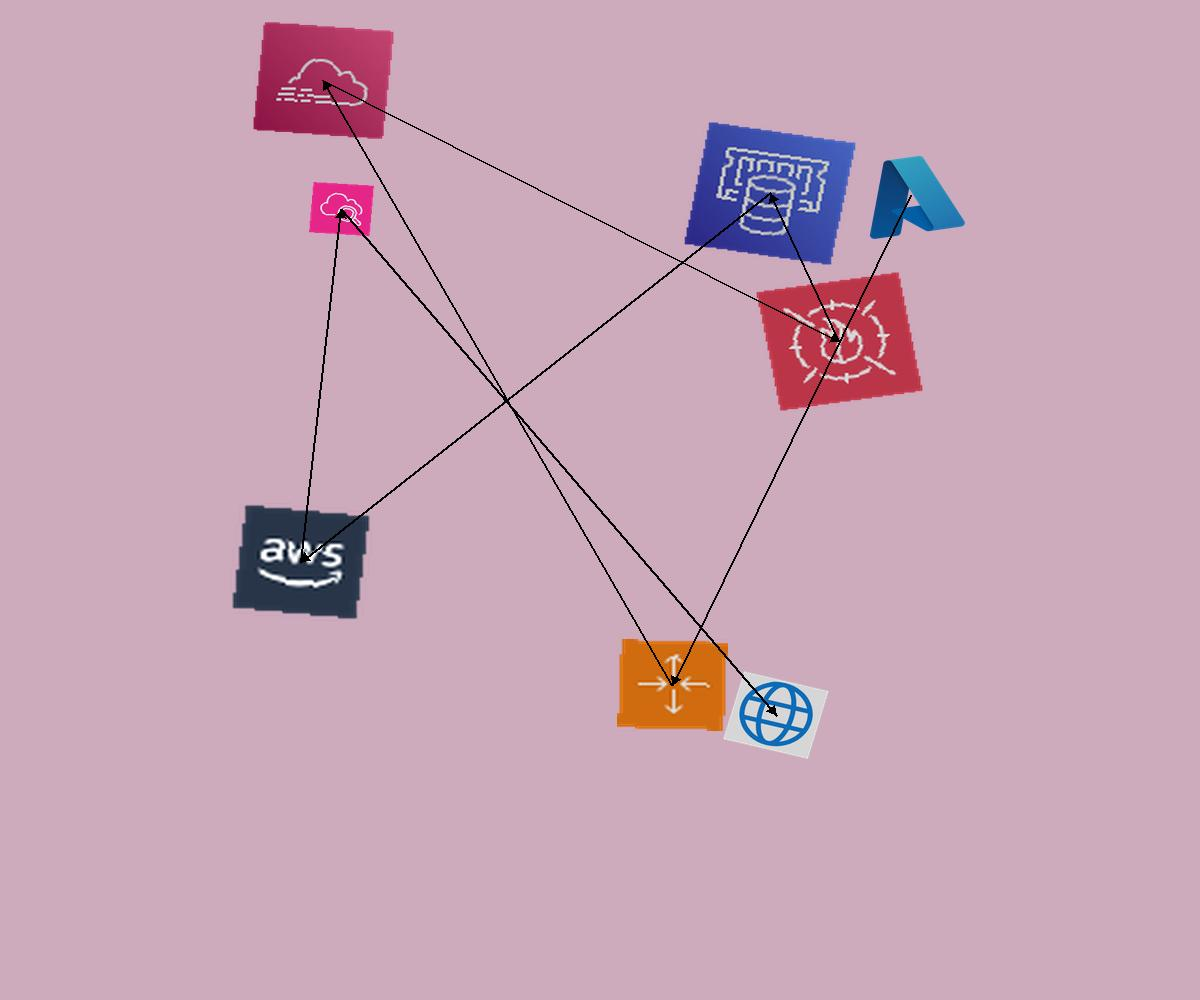AWS-Cloud-logo: (230, 503, 372, 621)
AWS-CloudTrail: (252, 21, 395, 140)
AWS-CloudWatch: (309, 182, 374, 236)
AWS-ElastiCache: (683, 121, 857, 266)
AWS-Scaling-group: (617, 639, 728, 731)
AWS-WAF: (755, 271, 924, 412)
Azure_http: (723, 671, 829, 759)
Azure_services: (850, 145, 971, 246)
